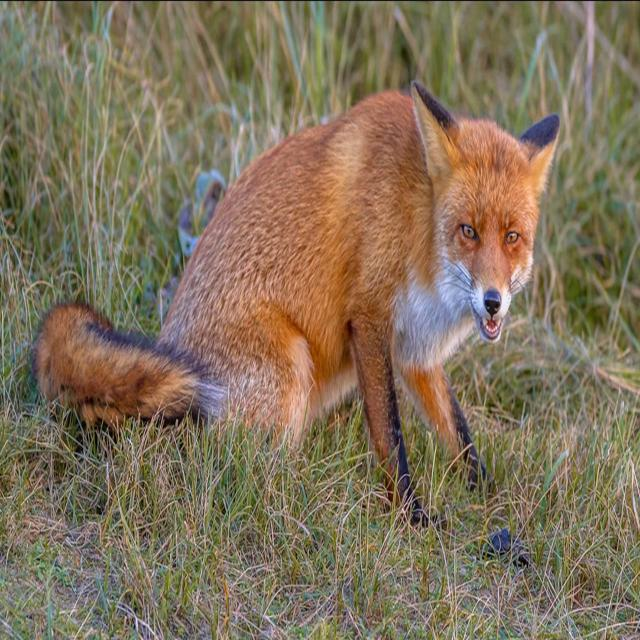fox: (34, 81, 560, 523)
